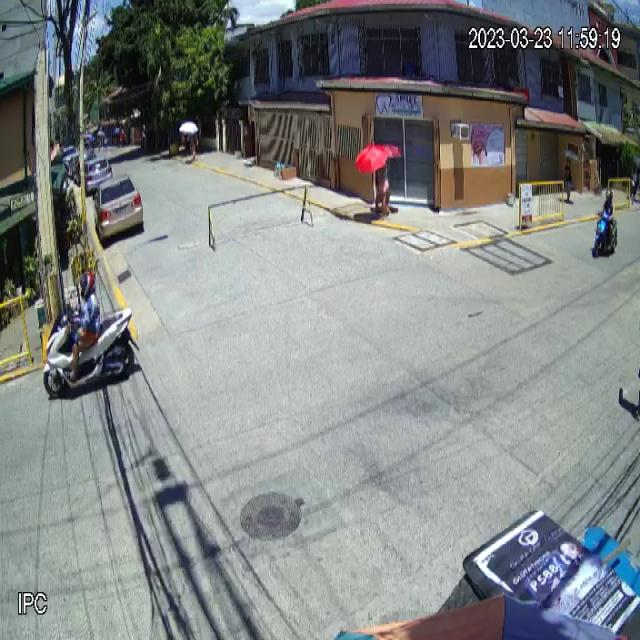Car: (94, 173, 144, 242)
Motorcycle: (43, 306, 140, 397)
